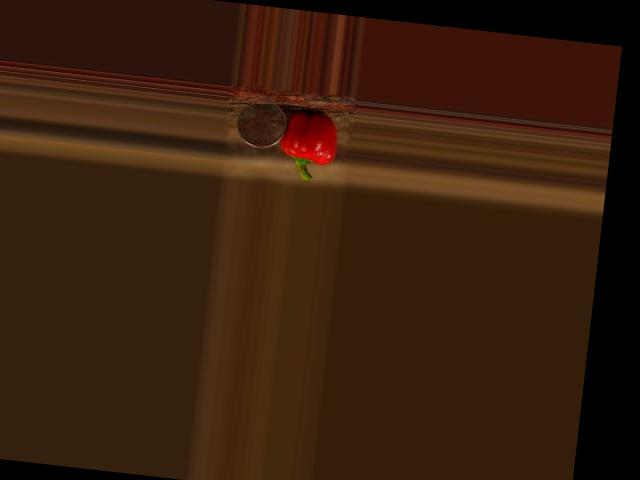bell_pepper: (278, 106, 341, 183)
